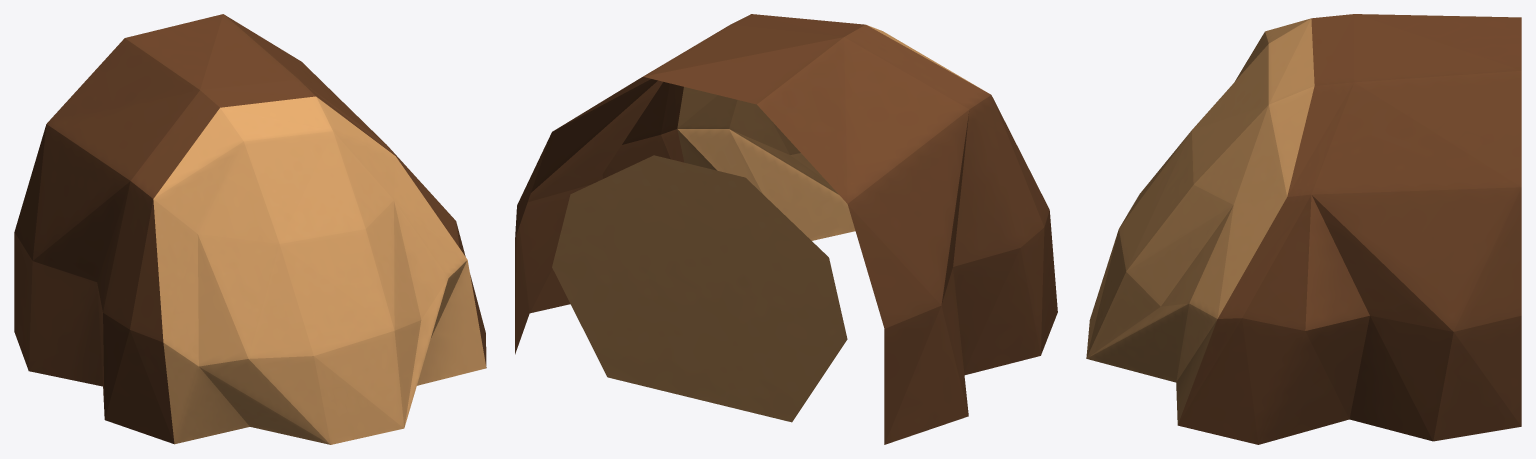
Rendered from TroncPerce_EntreeF.FBX.
3 views of the same model, side by side, from view 1: azimuth 30°, elevation 25°; view 2: azimuth 150°, elevation 25°; view 3: azimuth 270°, elevation 25° (orthographic). The views are drawn at different scales.
Parts seen in each view (by area): view 1: TroncPerce_EntreeF; view 2: TroncPerce_EntreeF; view 3: TroncPerce_EntreeF.
Part boxes in pixels (x1,y1,x2,y2): TroncPerce_EntreeF: (14,14,486,444); TroncPerce_EntreeF: (515,14,1057,444); TroncPerce_EntreeF: (1086,14,1521,444).
Size of the model in its own units: 2.39 by 1.62 by 2.13.
